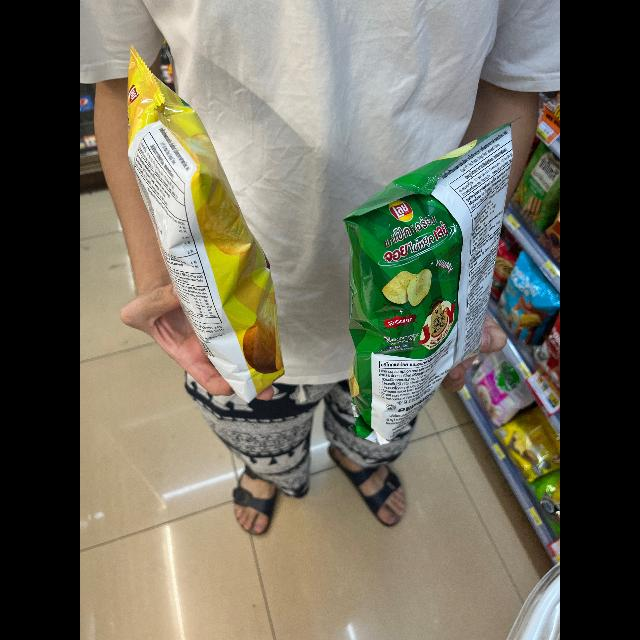snack_bag: (97, 50, 297, 408), (326, 119, 520, 455)
